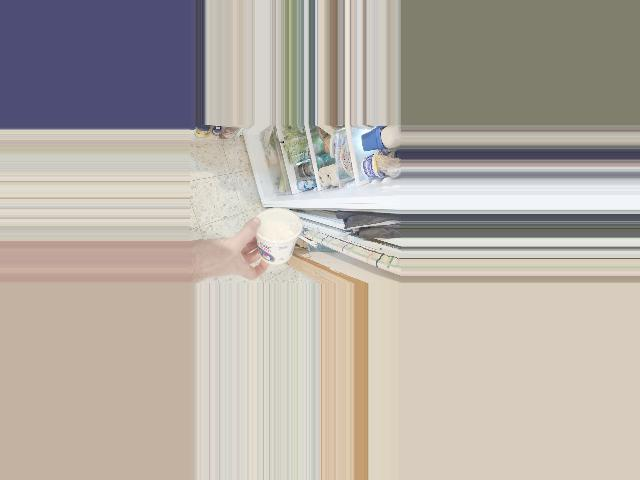cotage: (253, 203, 298, 262)
